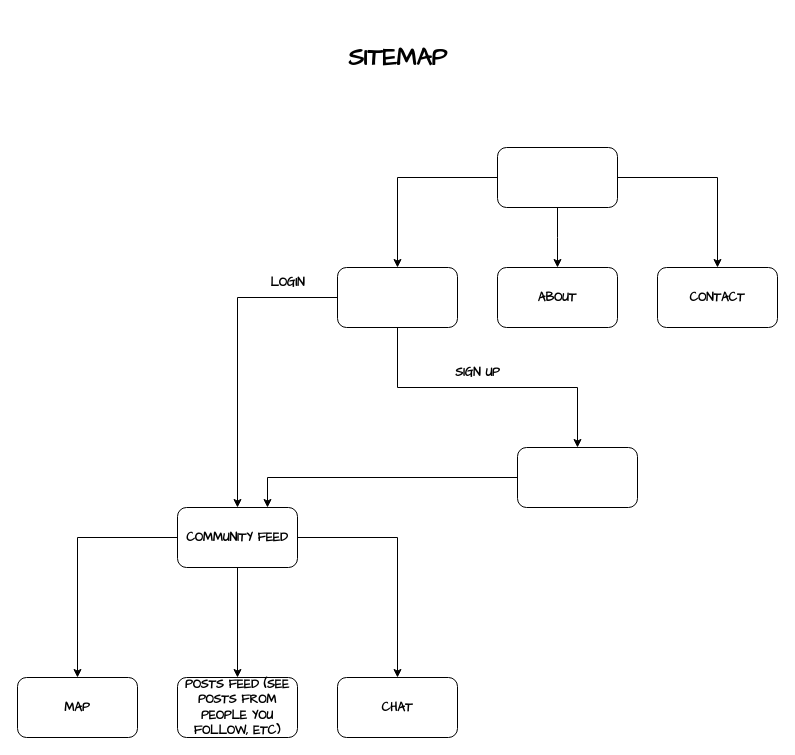
Image size: 795x755. Some labels were removed from this diagram. Each missing label, with the centre of its shape:
"HOME PAGE" belongs at pixel 557 177.
"LOGIN/SIGN UP PAGE" belongs at pixel 397 297.
"SIGN UP PAGE" belongs at pixel 577 477.
